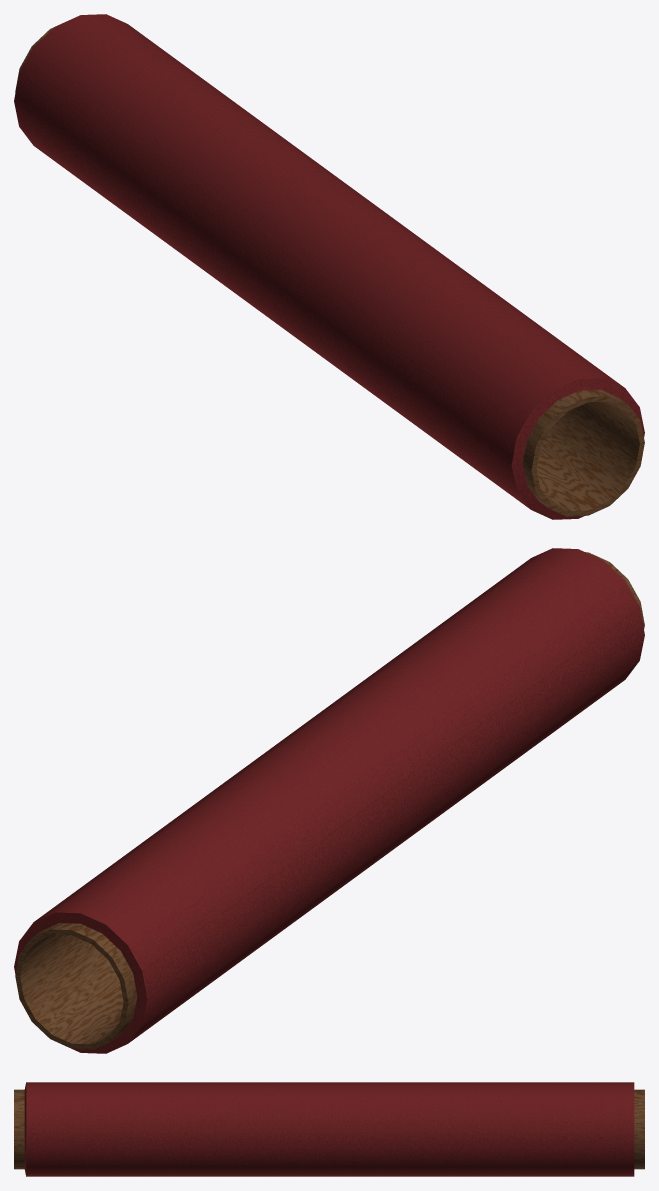
The model's file is Rouleau_ferme_libre_final.glb.
The picture shows the model from 3 angles, top to bottom: view 1: azimuth 30°, elevation 25°; view 2: azimuth 150°, elevation 25°; view 3: azimuth 270°, elevation 25°; orthographic projection. The views are drawn at different scales.
Visible parts, largest first — view 1: Cylinder.007; view 2: Cylinder.007; view 3: Cylinder.007.
Part boxes in pixels (left/top/right/bottom): Cylinder.007: left=14, top=14, right=644, bottom=519; Cylinder.007: left=14, top=548, right=644, bottom=1053; Cylinder.007: left=14, top=1082, right=644, bottom=1176.
Bounding box in the file's own units: 0.0542 × 0.0542 × 0.3631.
1 material, 1 textured.
